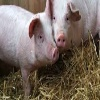heo: (28, 9, 59, 71), (48, 1, 84, 51)
